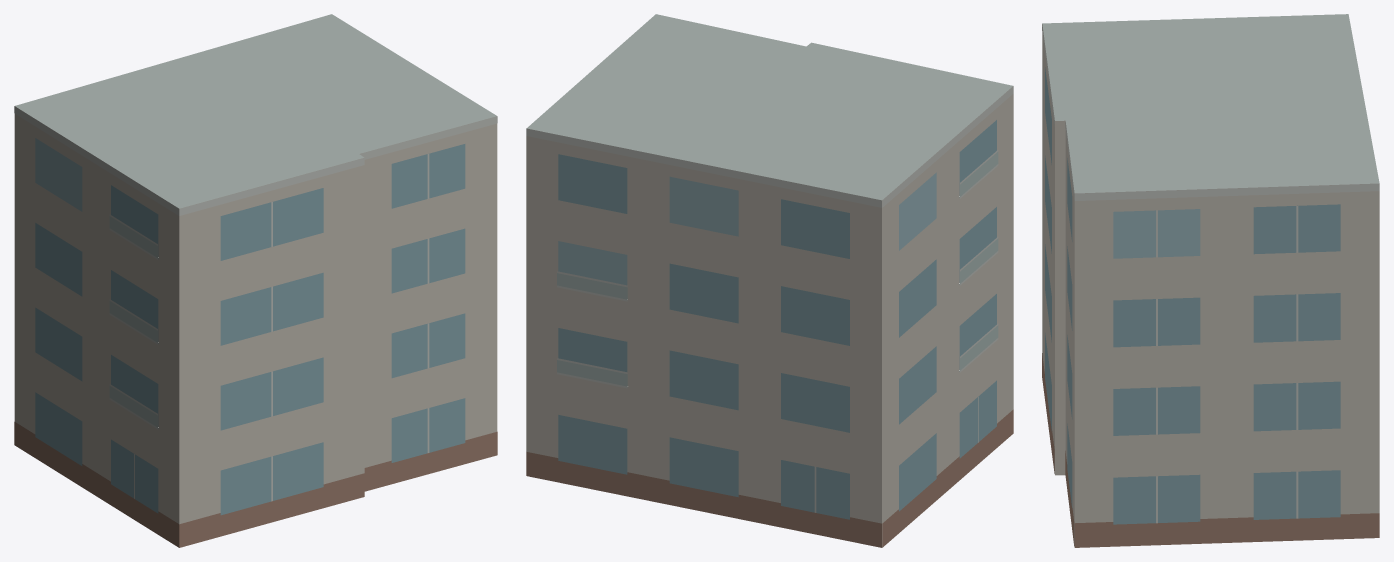
The model's file is survey-upis-32699415.glb.
3 renders of one model, left to right at view 1: azimuth 30°, elevation 25°; view 2: azimuth 150°, elevation 25°; view 3: azimuth 270°, elevation 25°, orthographic. The views are drawn at different scales.
Visible parts, largest first — view 1: survey-upis-32699415.tmp; view 2: survey-upis-32699415.tmp; view 3: survey-upis-32699415.tmp.
Part boxes in pixels (box(x1,y1,x2,y2)): survey-upis-32699415.tmp: box(14, 14, 497, 547); survey-upis-32699415.tmp: box(526, 14, 1013, 547); survey-upis-32699415.tmp: box(1042, 14, 1379, 547).
Size of the model in its own units: 12.17 by 11.2 by 9.67.
